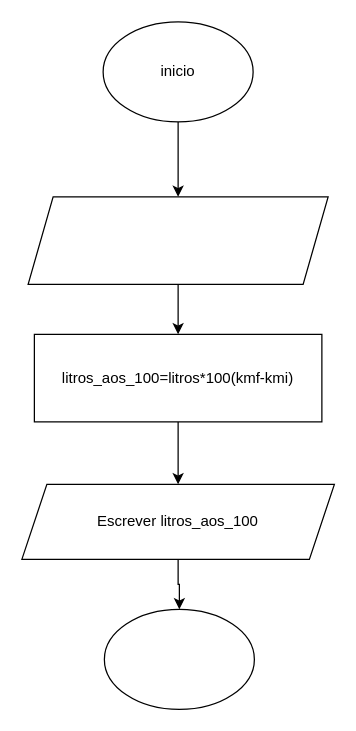
This 356x731 diagram has some shape labels left out. The shapes that lost their labels are listed below. From the top down, each one's box as (x1, y1, x2, y2) in pixels, then its label:
(27, 196, 328, 284): ler kmi,kmf,litros
(103, 608, 254, 709): Fim
